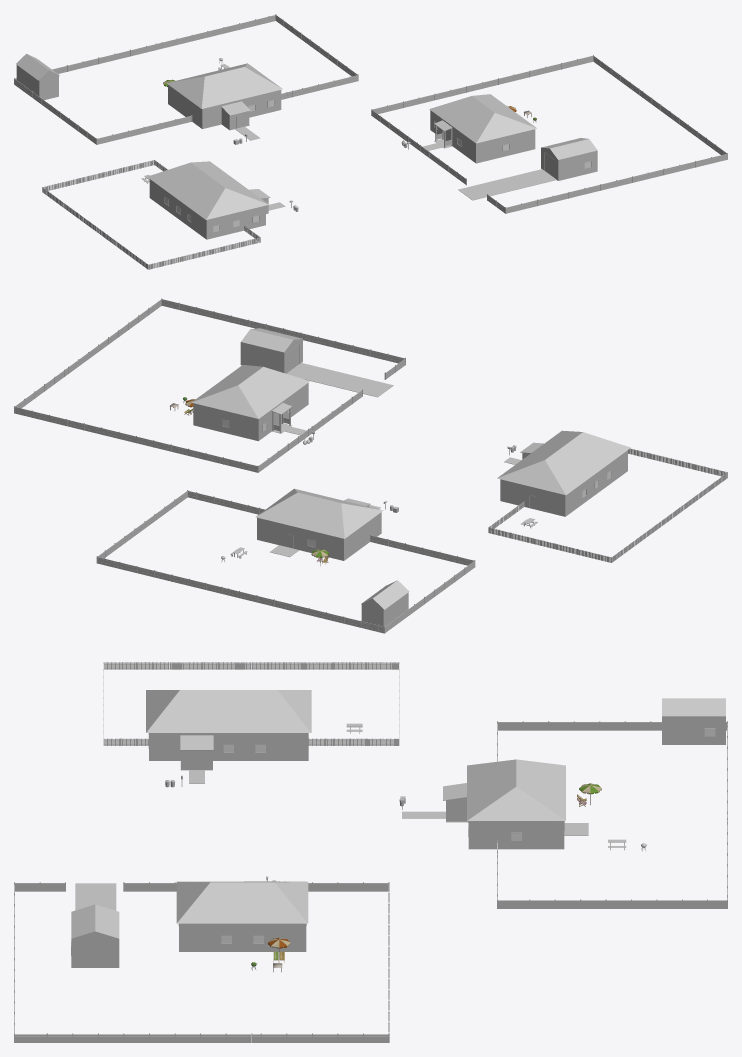
The model's file is HauseHutor05.fbx.
3 views of the same model, one above another, from view 1: azimuth 30°, elevation 25°; view 2: azimuth 150°, elevation 25°; view 3: azimuth 270°, elevation 25° (orthographic). The views are drawn at different scales.
Parts seen in each view (by area): view 1: Zabor.007, Roof, Zabor.001, RoofHause.001, RoofHause.002, HauseC, Cube.001, HauseJ.016, HauseJ.019, Garaje, Cube.003, Barn (+1 smaller); view 2: Zabor.007, Zabor.001, Roof, RoofHause.001, RoofHause.002, HauseC, HauseJ.019, Cube.001, HauseJ.016, Garaje, Cube.003, Barn (+1 smaller); view 3: Roof, RoofHause.002, RoofHause.001, Zabor.007, Zabor.001, HauseC, Cube.001, HauseJ.016, Garaje, HauseJ.019, Barn, BarnRoof (+1 smaller).
Boxes of the visible parts, x1,y1,x2,y2 form: Zabor.007: (371,55,727,213); Roof: (147,161,268,219); Zabor.001: (14,14,358,144); RoofHause.001: (429,94,536,143); RoofHause.002: (166,63,282,108); HauseC: (149,179,265,239); Cube.001: (42,160,260,269); HauseJ.016: (430,110,535,163); HauseJ.019: (168,85,281,128); Garaje: (541,138,597,180); Cube.003: (458,169,556,200); Barn: (16,65,58,99); Zabor.007: (14,298,405,472); Zabor.001: (96,490,475,633); Roof: (497,430,630,495); RoofHause.001: (191,365,309,418); RoofHause.002: (255,488,383,538); HauseC: (500,450,627,516); HauseJ.019: (257,512,381,560); Cube.001: (488,448,727,562); HauseJ.016: (193,383,308,440); Garaje: (240,328,302,373); Cube.003: (286,363,393,397); Barn: (361,592,408,626); Roof: (146,690,311,732); RoofHause.002: (467,759,565,820); RoofHause.001: (176,881,308,923); Zabor.007: (14,882,389,1042); Zabor.001: (497,721,727,908); HauseC: (148,733,308,760); Cube.001: (103,662,399,745); HauseJ.016: (178,923,306,951); Garaje: (71,904,119,967); HauseJ.019: (468,821,564,848); Barn: (662,716,725,744); BarnRoof: (662,698,725,716).
Size of the model in its own units: 11079 by 721 by 8953.
